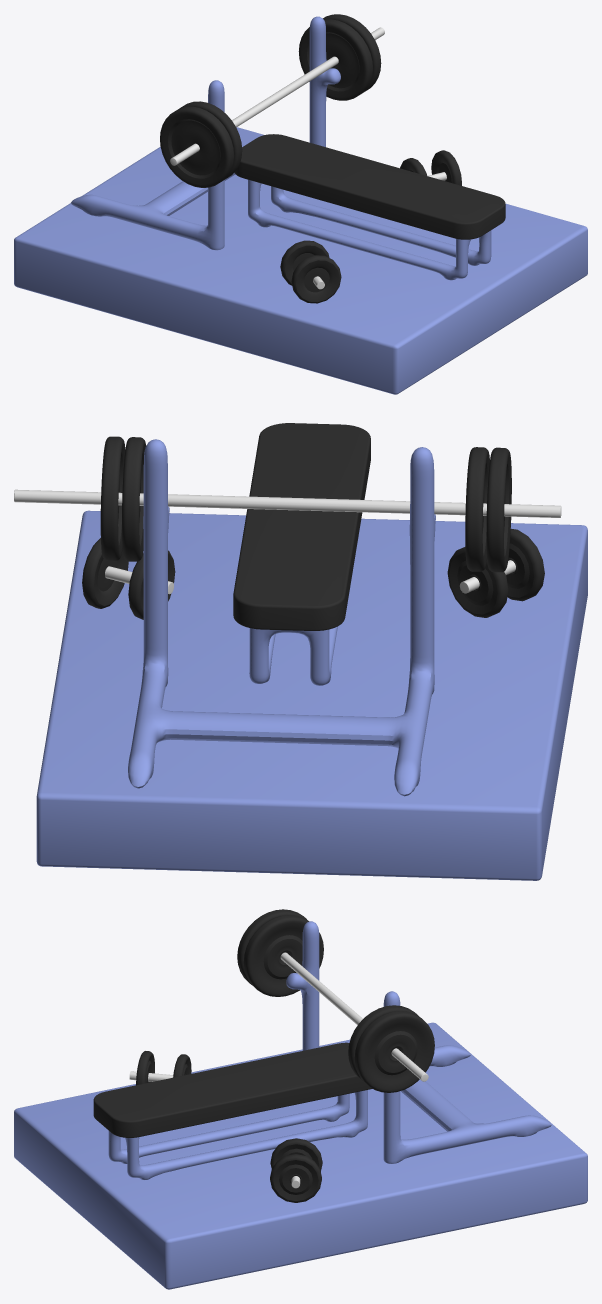
The model's file is gym.glb.
The picture shows the model from 3 angles, top to bottom: view 1: azimuth 30°, elevation 25°; view 2: azimuth 150°, elevation 25°; view 3: azimuth 270°, elevation 25°; orthographic projection. The views are drawn at different scales.
Visible parts, largest first — view 1: Cube.021, Cube.018, Cube.023, Cylinder.002, Cylinder.005, Cylinder.026, Cylinder.020, Cylinder.025, Cylinder.022, Cylinder.004; view 2: Cube.021, Cube.018, Cube.023, Cylinder.020, Cylinder.026, Cylinder.025, Cylinder.002, Cylinder.022, Cylinder.004, Cylinder.005; view 3: Cube.021, Cube.018, Cube.023, Cylinder.004, Cylinder.022, Cylinder.025, Cylinder.020, Cylinder.026, Cylinder.005, Cylinder.002.
Boxes of the visible parts, bbox=[...] form: Cube.021: bbox=[14, 127, 587, 394]; Cube.018: bbox=[234, 134, 505, 280]; Cube.023: bbox=[71, 16, 340, 250]; Cylinder.002: bbox=[160, 106, 234, 187]; Cylinder.005: bbox=[298, 19, 372, 100]; Cylinder.026: bbox=[280, 240, 341, 303]; Cylinder.020: bbox=[170, 27, 384, 165]; Cylinder.025: bbox=[400, 150, 461, 185]; Cylinder.022: bbox=[179, 101, 242, 179]; Cylinder.004: bbox=[323, 14, 381, 92]; Cube.021: bbox=[36, 510, 587, 880]; Cube.018: bbox=[233, 423, 370, 685]; Cube.023: bbox=[128, 439, 435, 796]; Cylinder.020: bbox=[14, 489, 561, 517]; Cylinder.026: bbox=[447, 528, 544, 617]; Cylinder.025: bbox=[82, 538, 175, 619]; Cylinder.002: bbox=[486, 447, 511, 572]; Cylinder.022: bbox=[465, 447, 489, 571]; Cylinder.004: bbox=[100, 436, 125, 561]; Cylinder.005: bbox=[122, 437, 146, 561]; Cube.021: bbox=[14, 1022, 587, 1289]; Cube.018: bbox=[93, 1042, 372, 1179]; Cube.023: bbox=[286, 921, 551, 1163]; Cylinder.004: bbox=[354, 1011, 434, 1092]; Cylinder.022: bbox=[243, 915, 323, 996]; Cylinder.025: bbox=[270, 1138, 322, 1202]; Cylinder.020: bbox=[280, 952, 428, 1081]; Cylinder.026: bbox=[129, 1051, 191, 1085]; Cylinder.005: bbox=[348, 1005, 418, 1080]; Cylinder.002: bbox=[237, 909, 306, 985].
Bounding box in the file's own units: 3.01 × 1.41 × 3.33.
